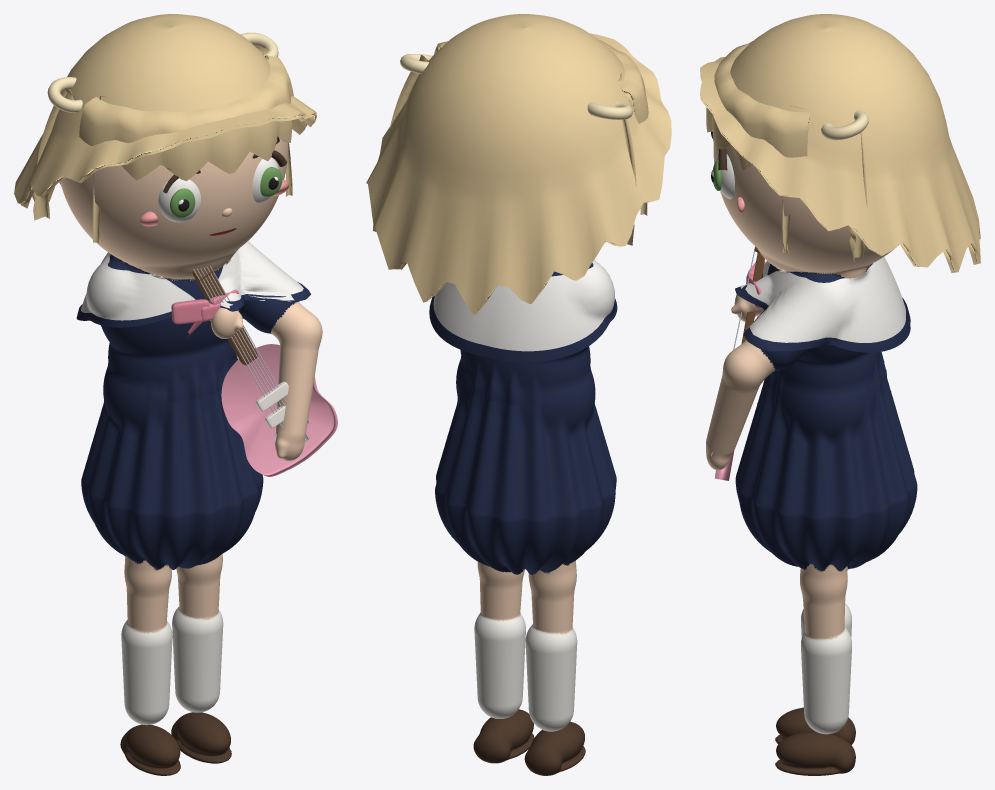
File: ikuyo-kita.glb
3 renders of one model, left to right at view 1: azimuth 30°, elevation 25°; view 2: azimuth 150°, elevation 25°; view 3: azimuth 270°, elevation 25°, orthographic.
Parts seen in each view (by area): view 1: kita_喜多郁代; view 2: kita_喜多郁代; view 3: kita_喜多郁代.
Boxes of the visible parts, x1,y1,x2,y2 form: kita_喜多郁代: [14, 14, 337, 775]; kita_喜多郁代: [366, 14, 671, 775]; kita_喜多郁代: [700, 14, 980, 775].
Bounding box in the file's own units: 0.676 × 1.76 × 0.6113.
